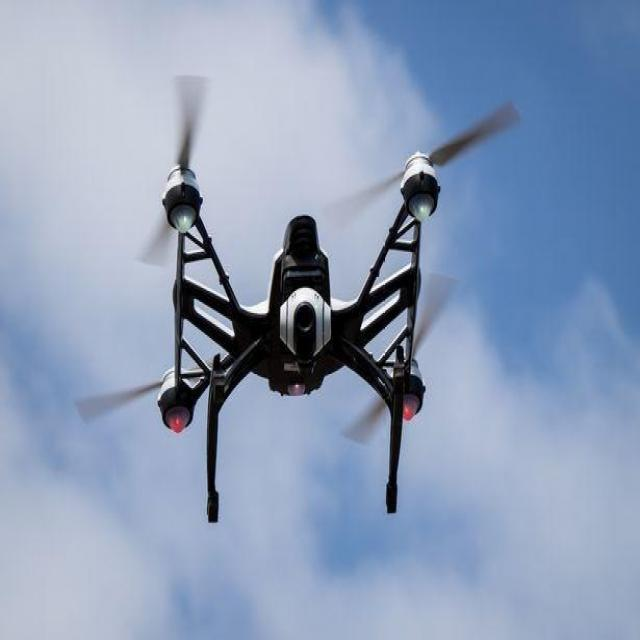UAV: (156, 138, 443, 530)
